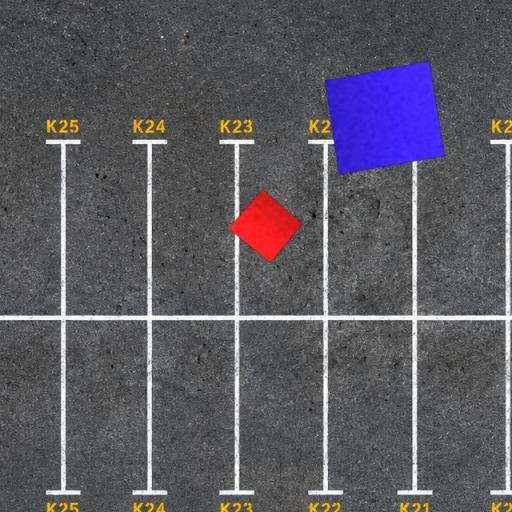BLUE_SQUARE: (324, 60, 446, 175)
RED_SQUARE: (228, 189, 304, 264)
